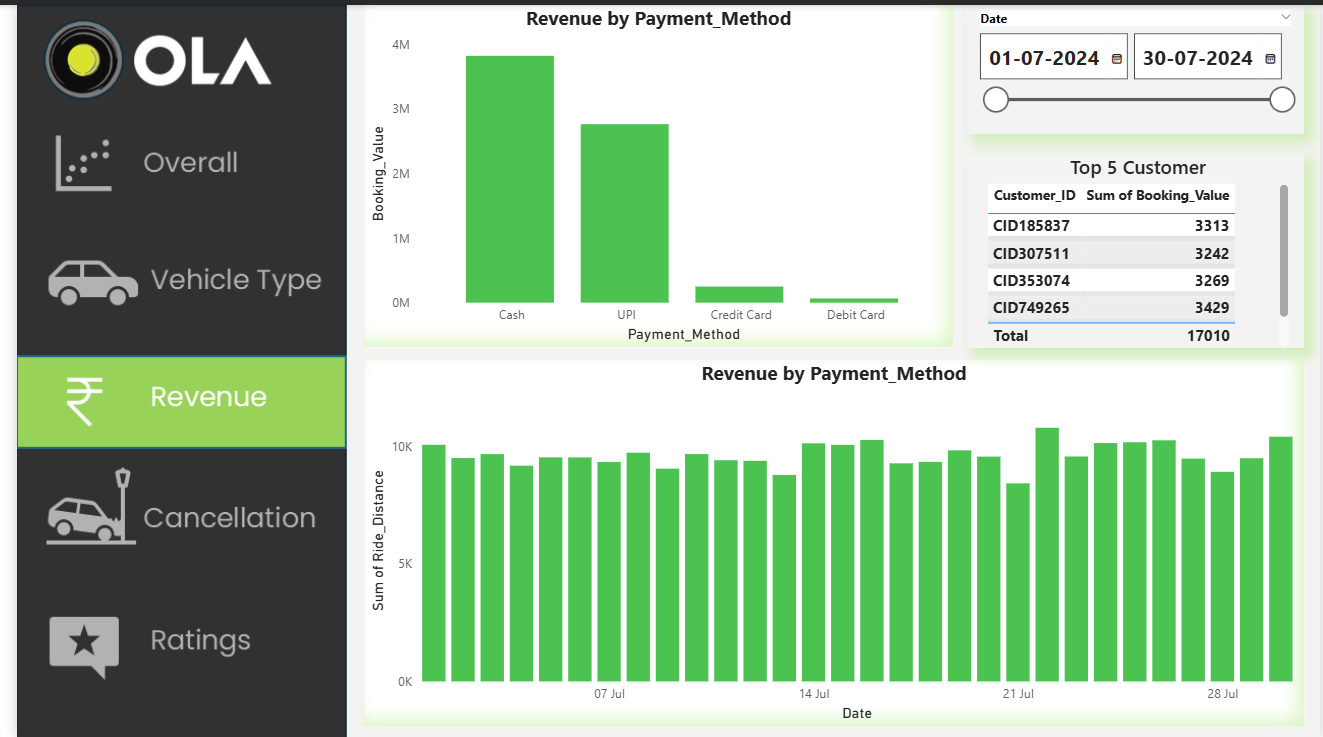

What the dashboard file says about the page in this screenshot:
{"tool":"powerbi","page":{"name":"Revenue","canvas":[1280,720],"ordinal":2},"visuals":[{"type":"columnChart","title":"Revenue by Payment_Method","fields":{"Category":["July.Payment_Method"],"Y":["Sum(July.Booking_Value)"]},"box":[341.7,0,577.7,336.2],"z":0},{"type":"columnChart","title":"Revenue by Payment_Method","fields":{"Category":["July.Date"],"Y":["Sum(July.Ride_Distance)"]},"box":[341.7,348.5,922.1,359.5],"z":1},{"type":"slicer","fields":{"Values":["July.Date"]},"box":[933.1,0,330.7,126.2],"z":2},{"type":"tableEx","title":"Top 5 Customer","fields":{"Values":["July.Customer_ID","Sum(July.Booking_Value)"]},"box":[933.1,145.5,330.7,190.7],"z":3}]}

Visuals, with their boxes on the page's 1280x720 design canvas (x1, y1, x2, y2). These are canvas units, not pixel positions in the 1323x737 screenshot, which may show the page scaled, cropped or inside an application window:
"Revenue by Payment_Method" columnChart: 342, 0, 919, 336
"Revenue by Payment_Method" columnChart: 342, 348, 1264, 708
slicer - July.Date: 933, 0, 1264, 126
"Top 5 Customer" tableEx: 933, 146, 1264, 336
